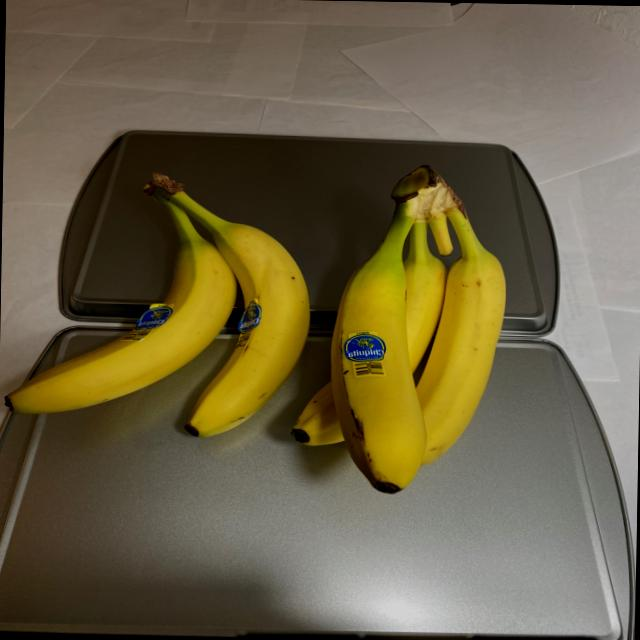banana: (1, 150, 318, 444), (286, 162, 512, 510)
